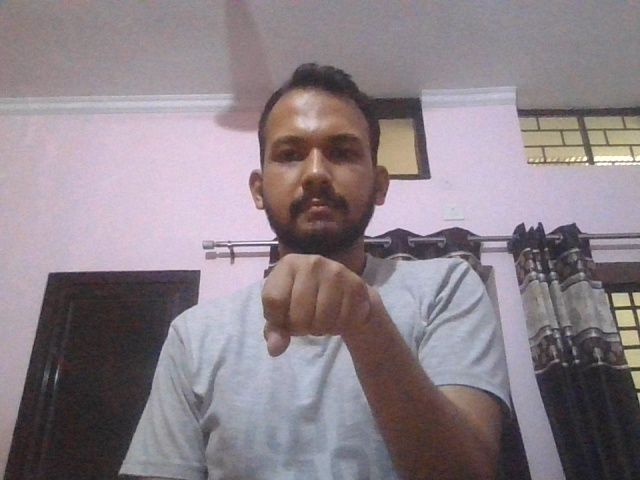yes: (263, 251, 375, 358)
